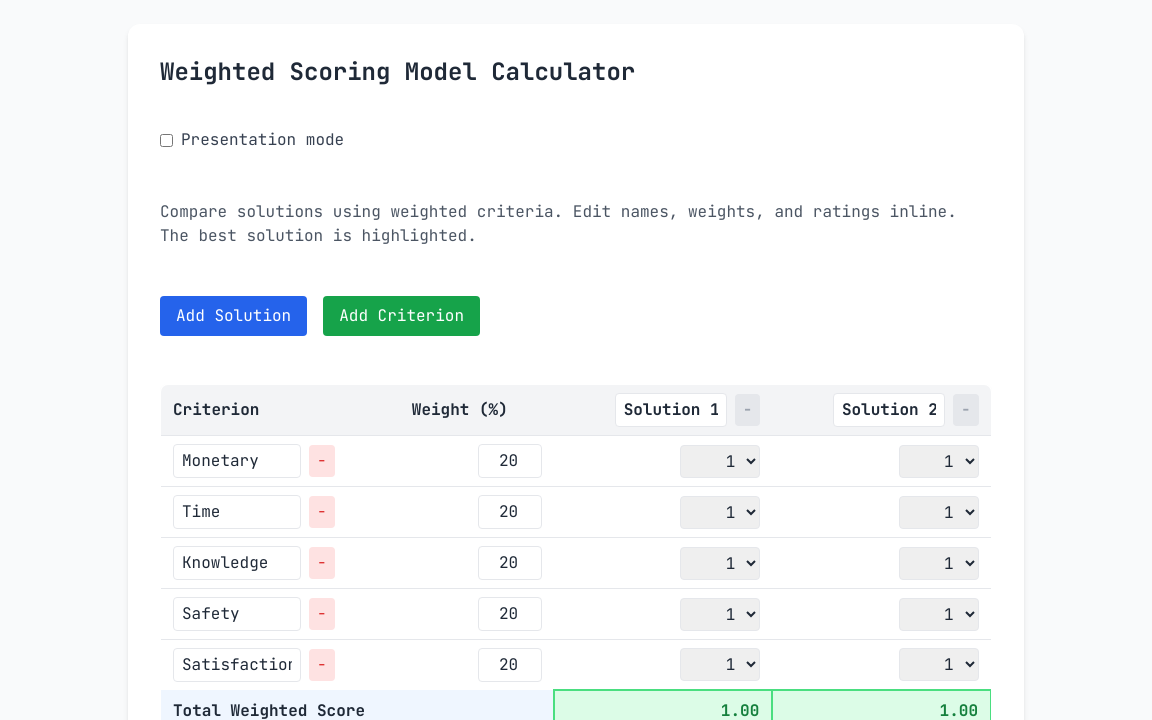
Test: WeightedScoringPanel user interactions › can remove a criterion
Click the 3rd button titled "Remove criterion": point(322, 461) [309,445,335,477]
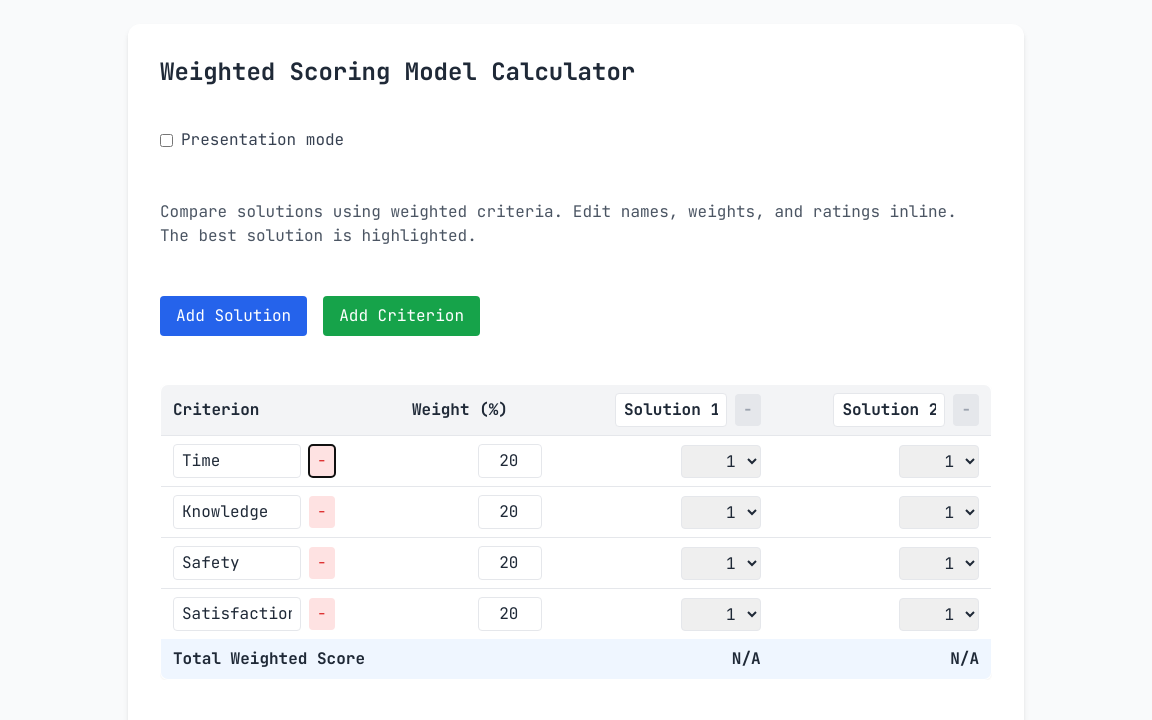
Result: the cell with test id "criterion-Time" is shown at [160,436,400,486]
